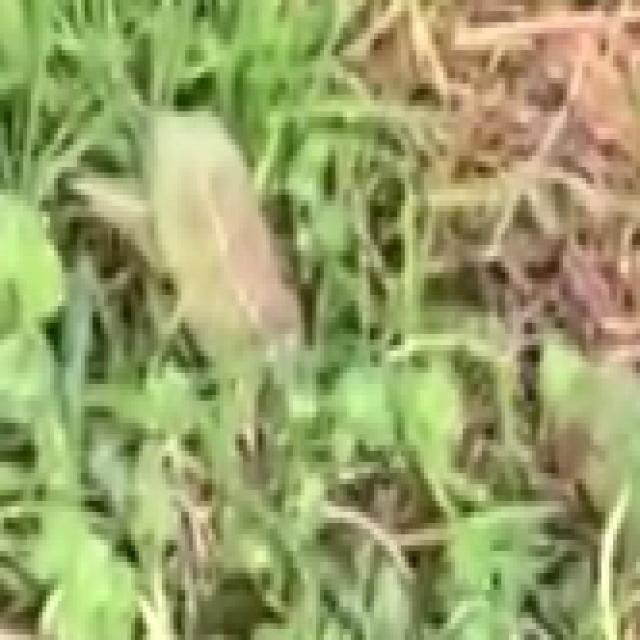organic waste: (77, 56, 386, 540)
